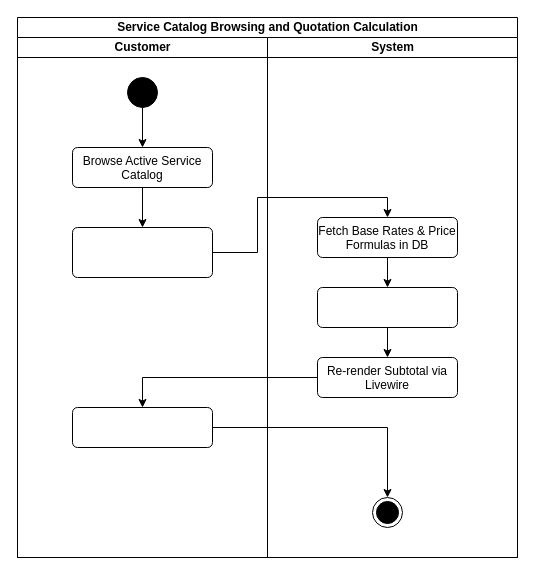
The diagram is 535 pixels wide and 575 high, and some of its shapes have lost their labels. The shapes that lost their labels are listed below. From the top down, each one's centre as x and y in pixels, then its label:
point (142, 252): Selects Service & Alter Parameters: Page count, color mode, etc.
point (387, 307): Execute Real-Time Price Computation
point (142, 427): View Live Itemized Quotation Breakdown
